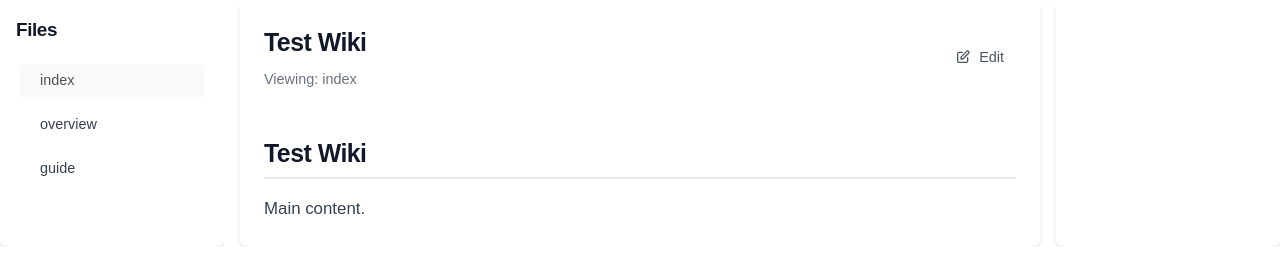
it: WikiViewer › should highlight active file in sidebar
Expected: the text "Main content." is shown, [264,199,365,218]
# Click overview.md and verify it loads
Click the button "overview". click: (112, 125)
box: [20,108,204,142]
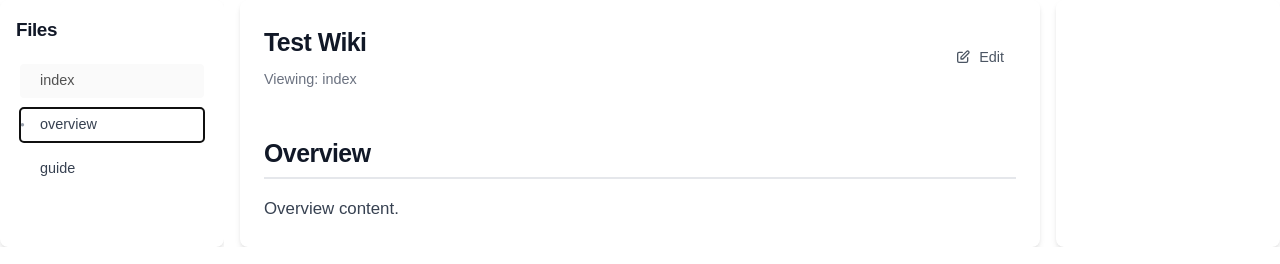
Expected: the text "Overview content." is shown, [264,199,399,218]
